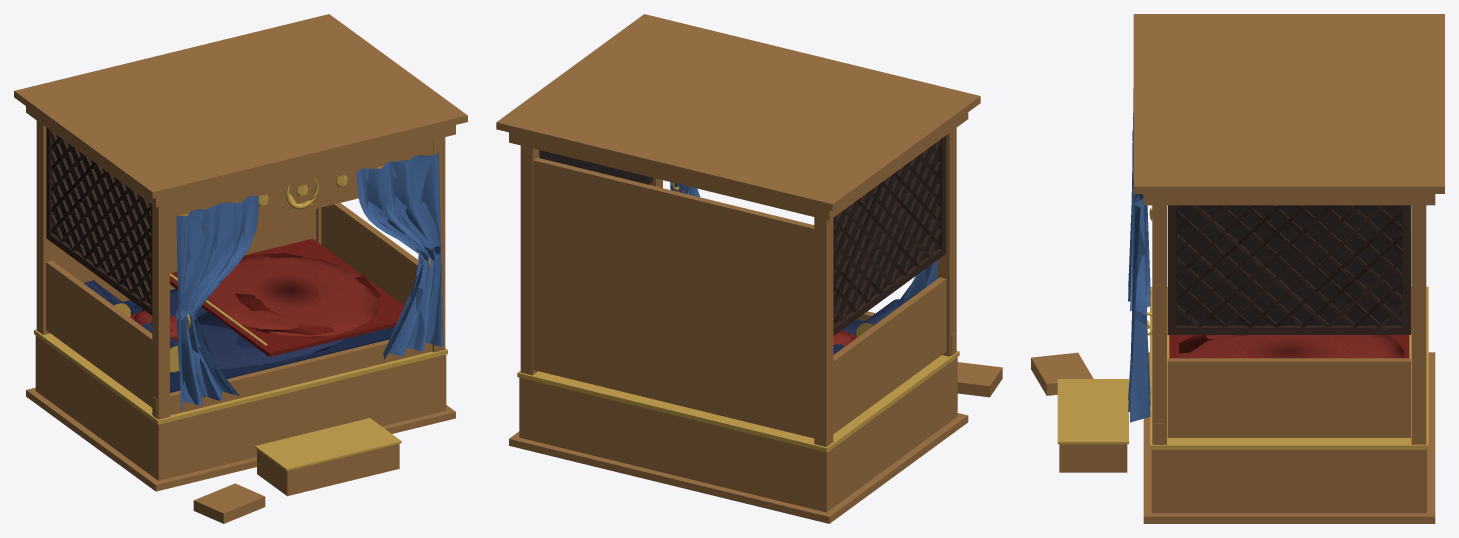
Rendered from prop_canopy_bed.gltf.
3 views of the same model, side by side, from view 1: azimuth 30°, elevation 25°; view 2: azimuth 150°, elevation 25°; view 3: azimuth 270°, elevation 25° (orthographic). The views are drawn at different scales.
Parts seen in each view (by area): view 1: Far, Near; view 2: Far, Near; view 3: Far, Near.
Part boxes in pixels (x1,y1,x2,y2): Far: (14, 14, 467, 523); Near: (51, 132, 442, 470); Far: (496, 14, 1002, 523); Near: (670, 142, 941, 354); Far: (1031, 14, 1444, 523); Near: (1057, 155, 1404, 444).
Size of the model in its own units: 2.52 by 2.33 by 2.55.
Materials: 10 (6 with a texture image).
